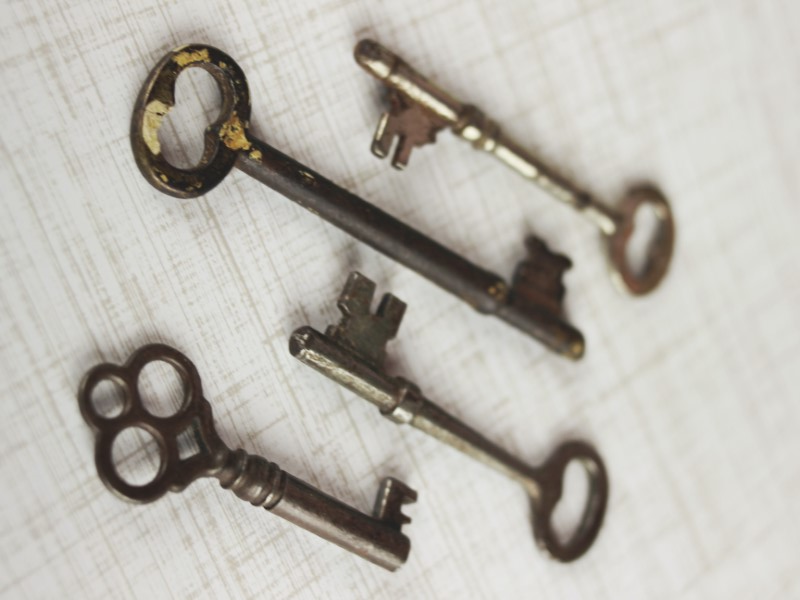key: (130, 33, 589, 374), (283, 270, 611, 566), (56, 344, 413, 576)
